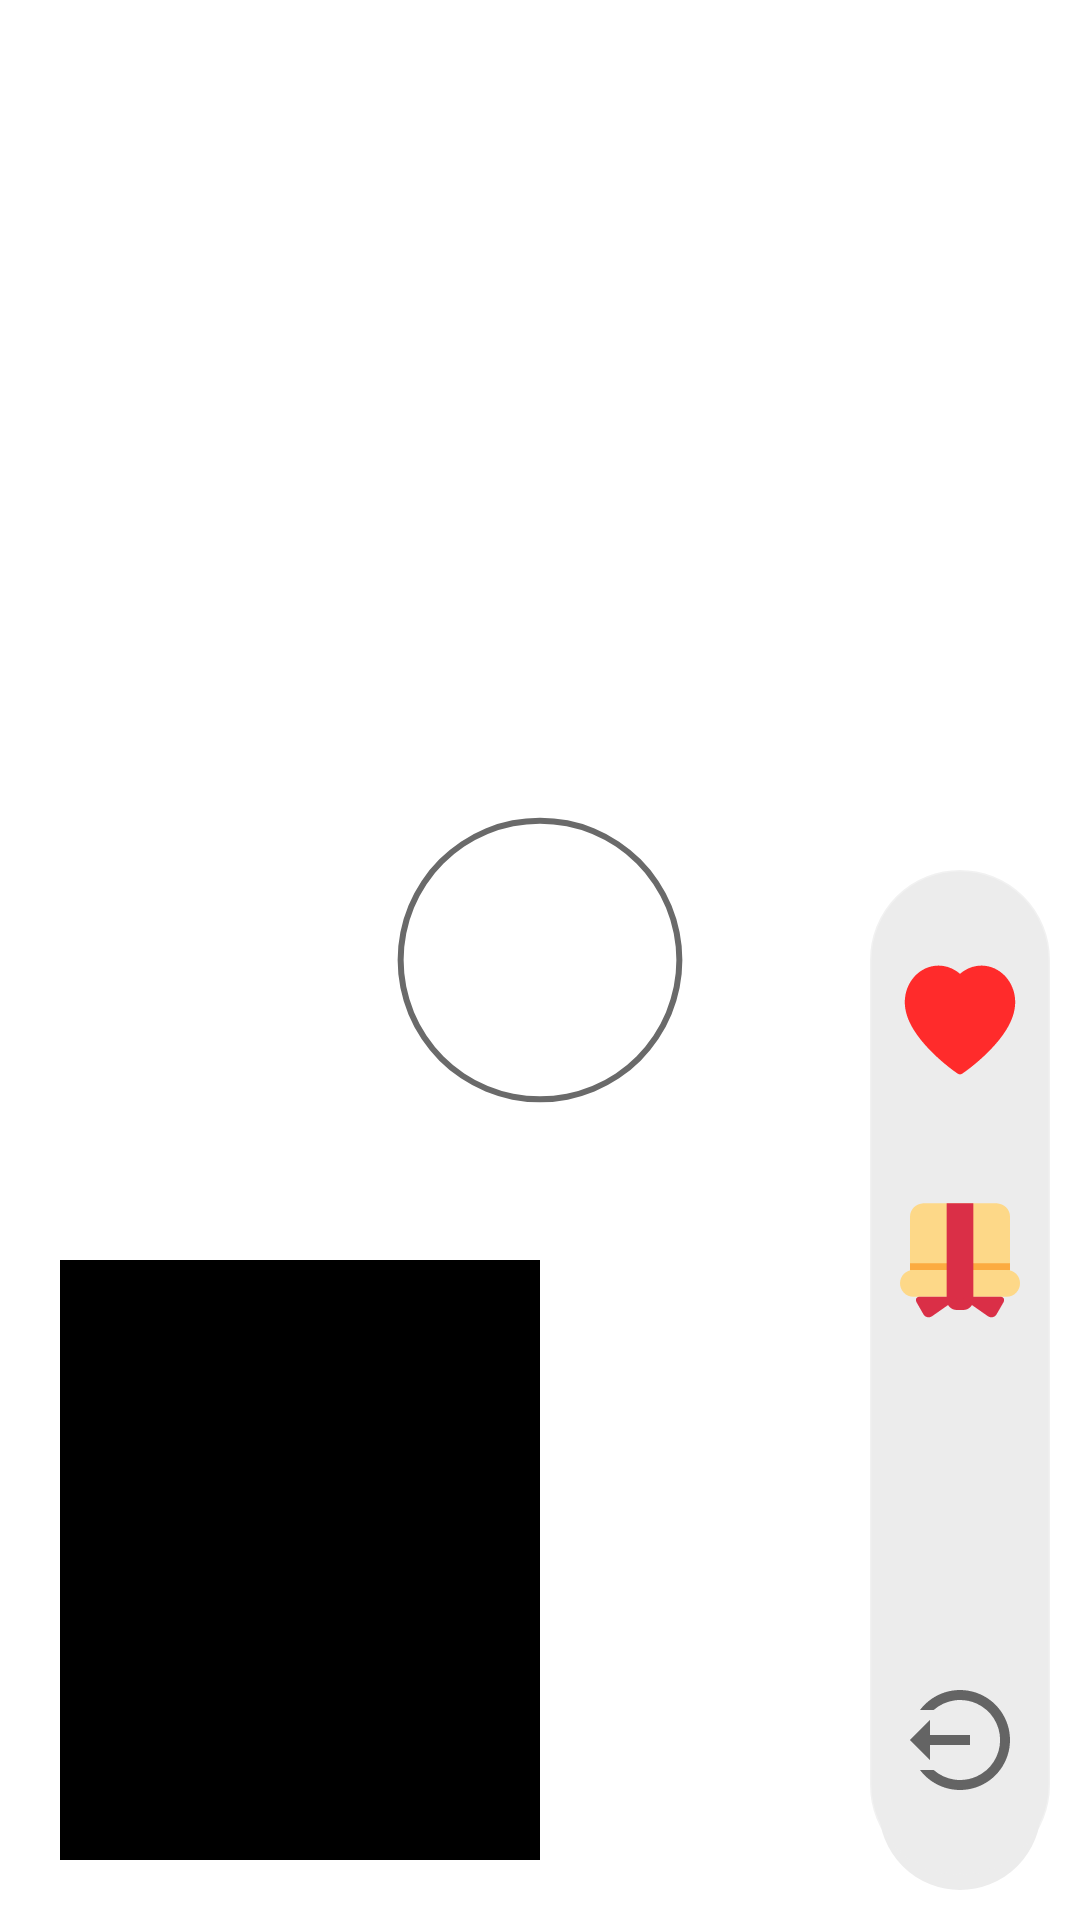

Named icons in this screenshot (1080×1920) and their bounding boxes, (x1, y1, x2, y2):
heart: (904, 965, 1016, 1075)
